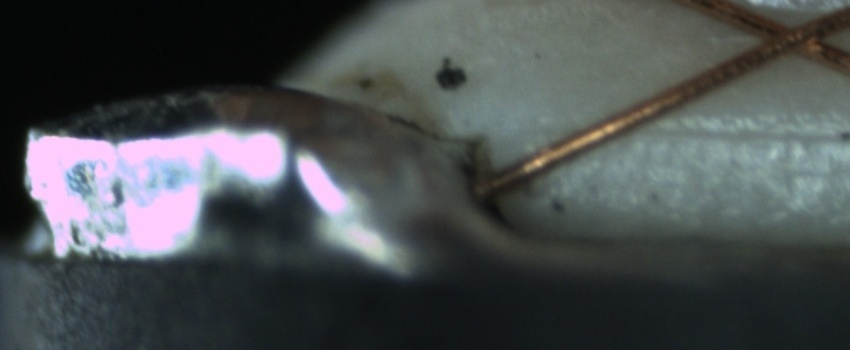CL: (741, 5, 841, 66)
DL: (556, 99, 849, 163)
